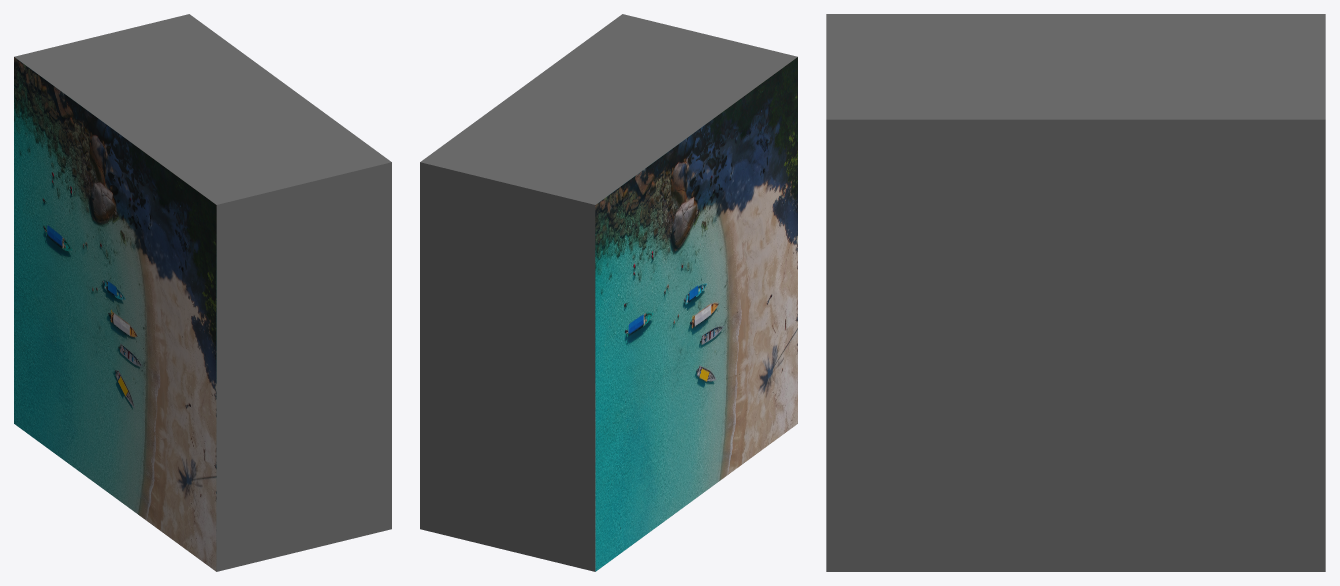
Rendered from 4CubesPuzzlePlaceholder.fbx.
3 renders of one model, left to right at view 1: azimuth 30°, elevation 25°; view 2: azimuth 150°, elevation 25°; view 3: azimuth 270°, elevation 25°, orthographic. The views are drawn at different scales.
Visible parts, largest first — view 1: piece4, piece2, piece3, piece1; view 2: piece3, piece1, piece4, piece2; view 3: piece3, piece4, piece1, piece2.
Boxes of the visible parts, x1=… form: piece4: x1=115, y1=88, x2=391, y2=388; piece2: x1=115, y1=314, x2=391, y2=571; piece3: x1=14, y1=14, x2=289, y2=313; piece1: x1=14, y1=240, x2=115, y2=497; piece3: x1=420, y1=88, x2=696, y2=388; piece1: x1=420, y1=314, x2=696, y2=571; piece4: x1=522, y1=14, x2=797, y2=313; piece2: x1=696, y1=240, x2=797, y2=497; piece3: x1=1076, y1=14, x2=1325, y2=345; piece4: x1=826, y1=14, x2=1075, y2=345; piece1: x1=1076, y1=345, x2=1325, y2=571; piece2: x1=826, y1=345, x2=1075, y2=571.
Size of the model in its own units: 800 by 1600 by 1600.
2 materials, 1 textured.
